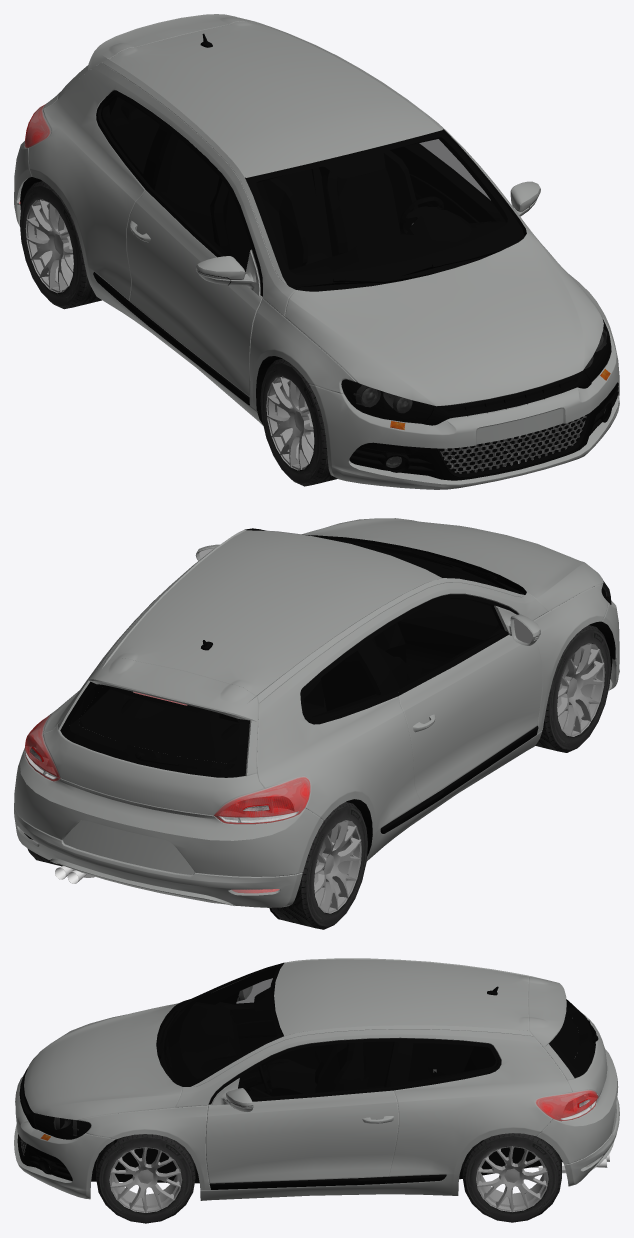
Rendered from ev_car.glb.
3 views of the same model, one above another, from view 1: azimuth 30°, elevation 25°; view 2: azimuth 150°, elevation 25°; view 3: azimuth 270°, elevation 25° (orthographic). The views are drawn at different scales.
Visible parts, largest first — view 1: Body, WheelFR, WheelRR; view 2: Body, WheelRR, WheelFR; view 3: Body, WheelFL, WheelRL.
Boxes of the visible parts, box(x1,y1,x2,y2) form: Body: box(14, 14, 619, 489); WheelFR: box(260, 358, 337, 486); WheelRR: box(20, 181, 101, 309); Body: box(14, 518, 619, 907); WheelRR: box(269, 802, 367, 929); WheelFR: box(535, 625, 611, 752); Body: box(14, 958, 619, 1200); WheelFL: box(96, 1134, 195, 1223); WheelRL: box(462, 1133, 561, 1222).
Bounding box in the file's own units: 31.01 × 21.18 × 62.95.
Materials: 14 (5 with a texture image).
